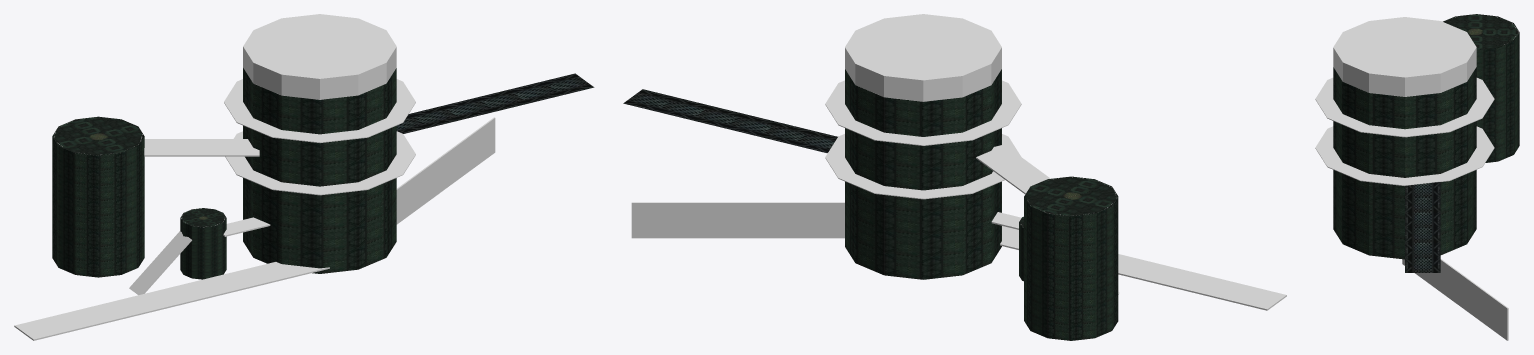
File: sile.fbx
3 views of the same model, side by side, from view 1: azimuth 30°, elevation 25°; view 2: azimuth 150°, elevation 25°; view 3: azimuth 270°, elevation 25° (orthographic). The views are drawn at different scales.
Visible parts, largest first — view 1: Sile, Sile.002, Cylinder.002, Sile.001, Cylinder, Cylinder.001, Duct.006, Duct.005, Duct.003, Duct.001, Duct.002, Duct.004 (+5 smaller); view 2: Sile, Sile.002, Cylinder.002, Duct.003, Duct.002, Cylinder, Cylinder.001, Duct.006, Duct.001, Plane.002, Plane.001, Plane (+1 smaller); view 3: Sile, Cylinder.002, Sile.002, Cylinder, Cylinder.001, Duct.003, Plane.001, Plane.002, Plane, Duct.002.
Part boxes in pixels (left/top/right/bottom): Sile: left=243, top=68, right=396, bottom=273; Sile.002: left=52, top=116, right=144, bottom=277; Cylinder.002: left=243, top=14, right=396, bottom=99; Sile.001: left=180, top=208, right=226, bottom=279; Cylinder: left=224, top=79, right=415, bottom=142; Cylinder.001: left=225, top=131, right=415, bottom=195; Duct.006: left=14, top=301, right=133, bottom=340; Duct.005: left=114, top=277, right=233, bottom=316; Duct.003: left=439, top=117, right=495, bottom=191; Duct.001: left=144, top=139, right=259, bottom=156; Duct.002: left=396, top=157, right=440, bottom=224; Duct.004: left=214, top=262, right=329, bottom=291; Sile: left=845, top=69, right=1001, bottom=279; Sile.002: left=1024, top=176, right=1118, bottom=340; Cylinder.002: left=845, top=14, right=1001, bottom=101; Duct.003: left=631, top=202, right=749, bottom=238; Duct.002: left=747, top=202, right=844, bottom=238; Cylinder: left=825, top=80, right=1021, bottom=145; Cylinder.001: left=825, top=134, right=1021, bottom=199; Duct.006: left=1165, top=270, right=1286, bottom=310; Duct.001: left=976, top=144, right=1050, bottom=194; Plane.002: left=623, top=89, right=710, bottom=119; Plane.001: left=691, top=106, right=778, bottom=136; Plane: left=759, top=122, right=837, bottom=152; Sile: left=1333, top=67, right=1476, bottom=259; Cylinder.002: left=1333, top=17, right=1476, bottom=96; Sile.002: left=1443, top=14, right=1519, bottom=162; Cylinder: left=1315, top=77, right=1494, bottom=137; Cylinder.001: left=1315, top=126, right=1494, bottom=185; Duct.003: left=1454, top=269, right=1508, bottom=340; Plane.001: left=1405, top=212, right=1440, bottom=242; Plane.002: left=1405, top=242, right=1440, bottom=272; Plane: left=1405, top=182, right=1440, bottom=212; Duct.002: left=1402, top=259, right=1456, bottom=303.
Bounding box in the file's own units: 1789 × 581 × 570.
Materials: 7 (3 with a texture image).
